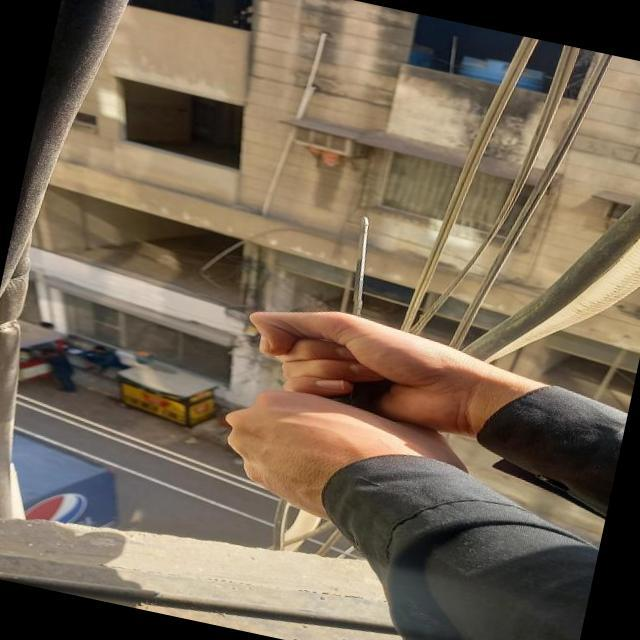Knife: (258, 200, 402, 414)
